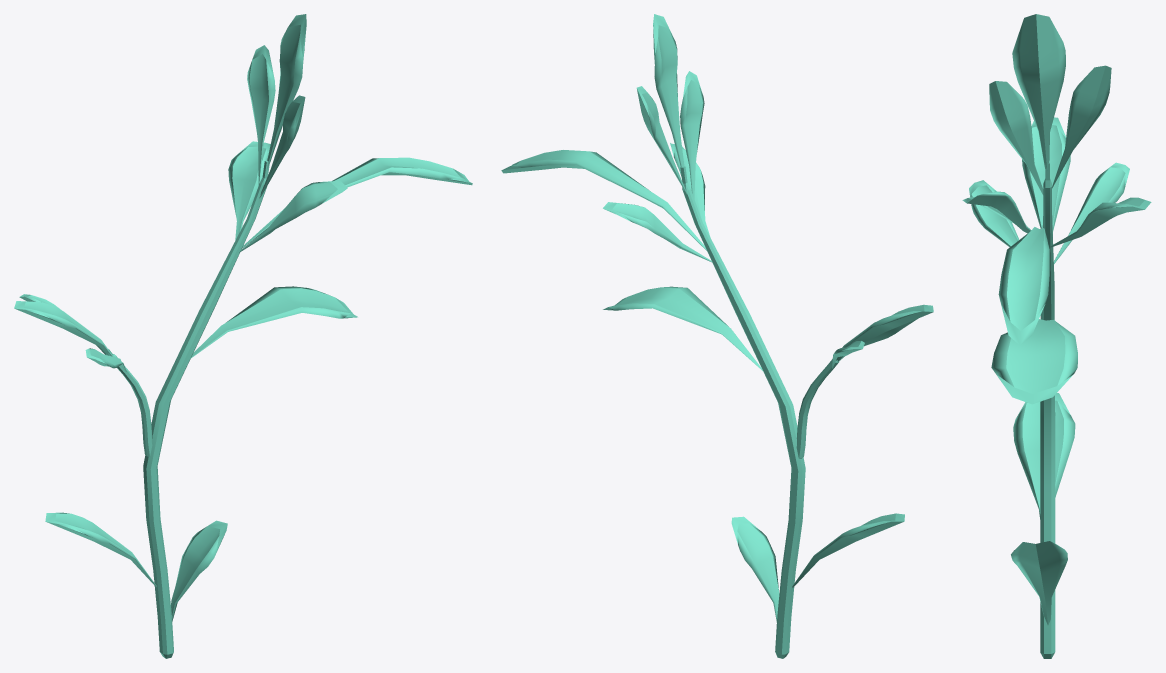
The model's file is GrassFlower1.fbx.
3 renders of one model, left to right at view 1: azimuth 30°, elevation 25°; view 2: azimuth 150°, elevation 25°; view 3: azimuth 270°, elevation 25°, orthographic. The views are drawn at different scales.
Visible parts, largest first — view 1: pCube98; view 2: pCube98; view 3: pCube98.
Part boxes in pixels (x1,y1,x2,y2): pCube98: [14, 14, 472, 658]; pCube98: [501, 14, 933, 658]; pCube98: [962, 14, 1151, 658].
Size of the model in its own units: 0.217 by 0.2852 by 0.0679.
